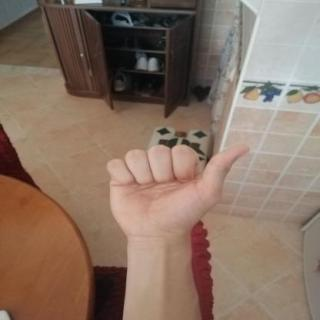DAD: (94, 135, 258, 249)
